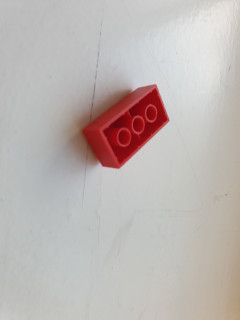2x4 red: (81, 83, 171, 170)
